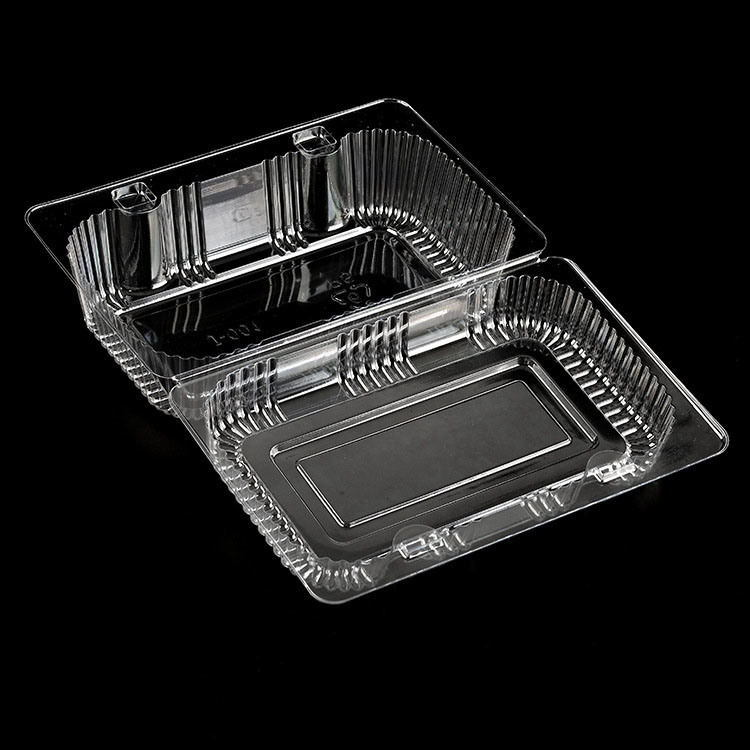PlasticBox: (22, 90, 734, 609)
